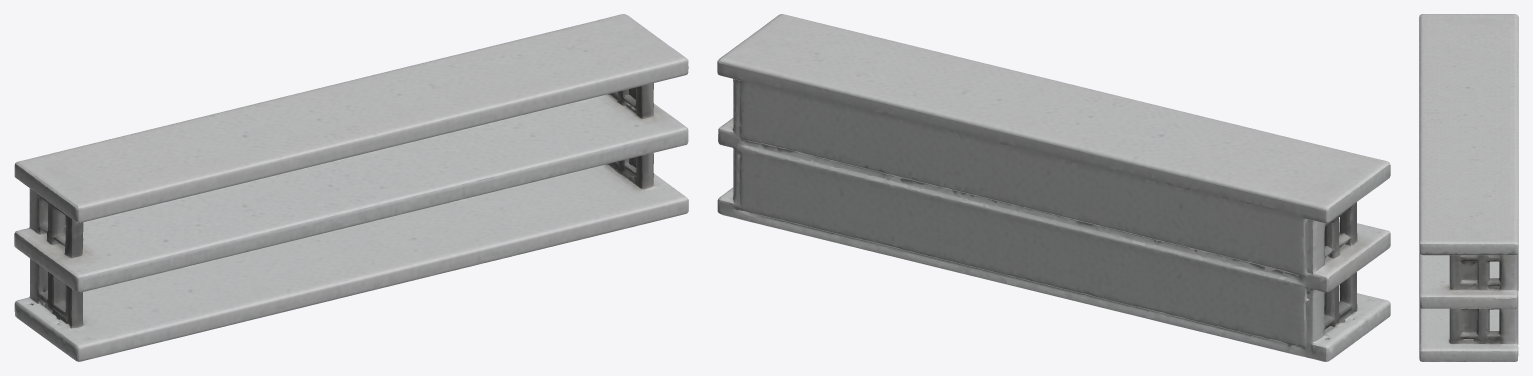
File: item_d5fc303a.glb
3 renders of one model, left to right at view 1: azimuth 30°, elevation 25°; view 2: azimuth 150°, elevation 25°; view 3: azimuth 270°, elevation 25°, orthographic. The views are drawn at different scales.
Visible parts, largest first — view 1: world; view 2: world; view 3: world.
Boxes of the visible parts, x1=… form: world: x1=14, y1=14, x2=688, y2=361; world: x1=717, y1=14, x2=1390, y2=361; world: x1=1419, y1=14, x2=1518, y2=361.
Size of the model in its own units: 1.8 by 0.4389 by 0.3284.
Materials: 1 (1 with a texture image).
